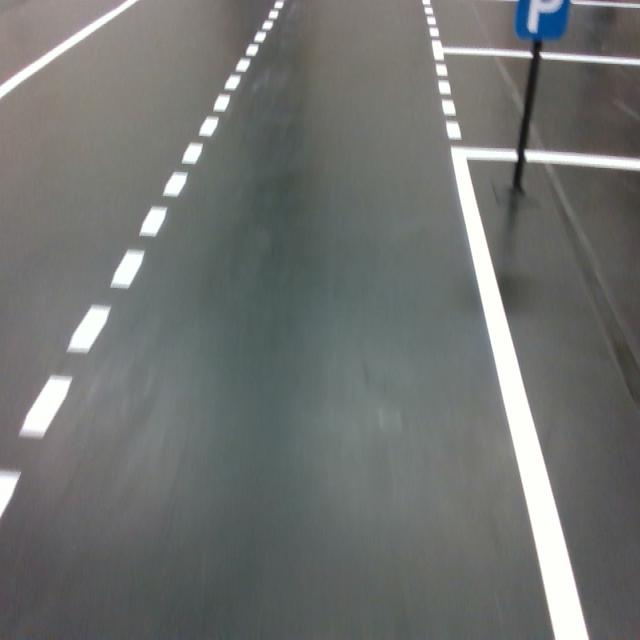parking-sign: (514, 0, 571, 41)
